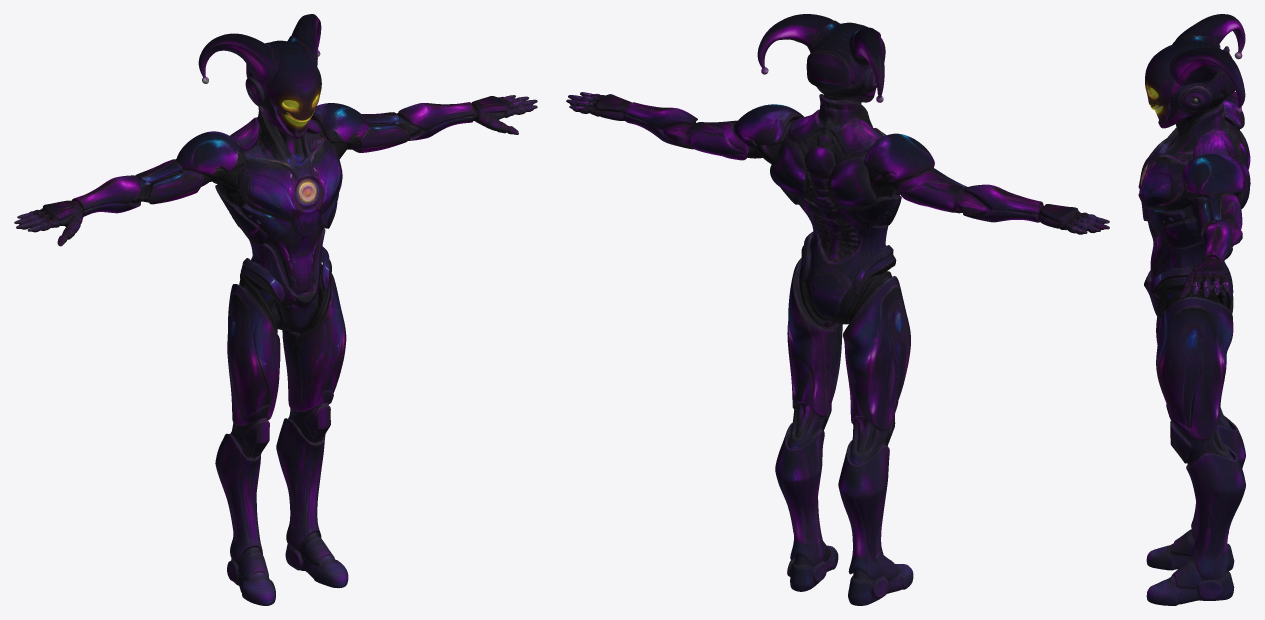
File: nebula_jester.glb
3 renders of one model, left to right at view 1: azimuth 30°, elevation 25°; view 2: azimuth 150°, elevation 25°; view 3: azimuth 270°, elevation 25°, orthographic. The views are drawn at different scales.
Visible parts, largest first — view 1: Mesh_0; view 2: Mesh_0; view 3: Mesh_0.
Part boxes in pixels (box(x1,y1,x2,y2)): Mesh_0: box(14, 14, 537, 605); Mesh_0: box(566, 14, 1109, 605); Mesh_0: box(1138, 14, 1250, 605).
Bounding box in the file's own units: 1.9 × 1.9 × 0.351.
1 material, 1 textured.
